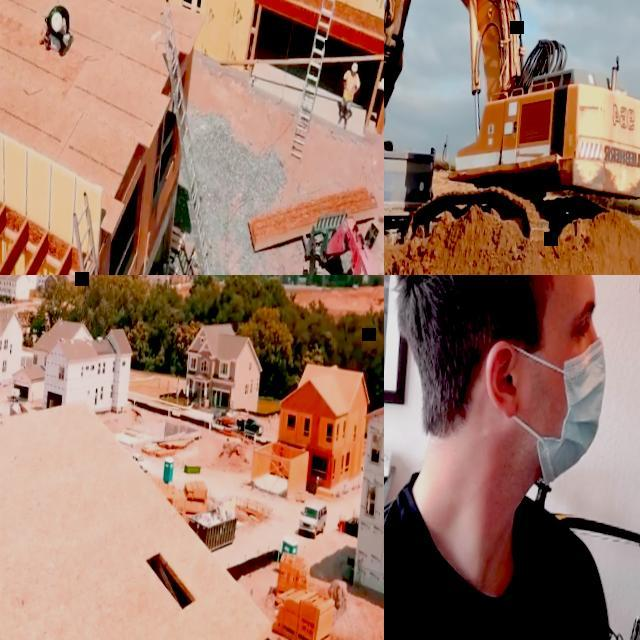helmet: (50, 12, 63, 34), (350, 63, 358, 73)
vest: (343, 74, 357, 99)
